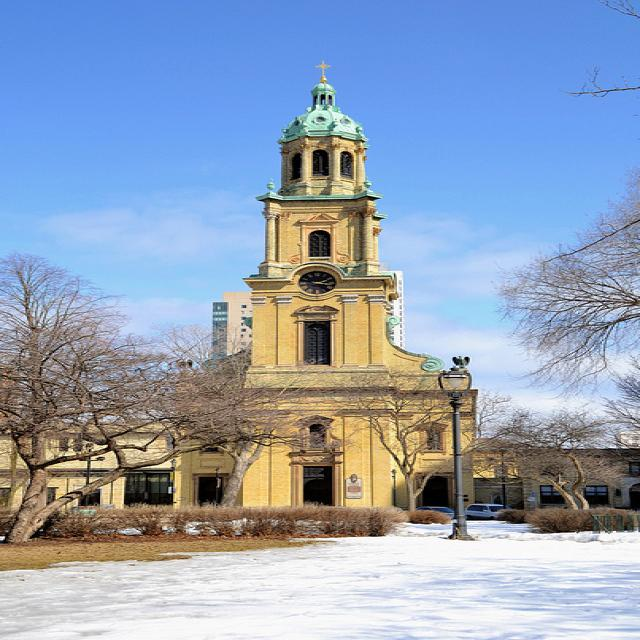Vehicle: (464, 504, 512, 520), (416, 506, 455, 520)
